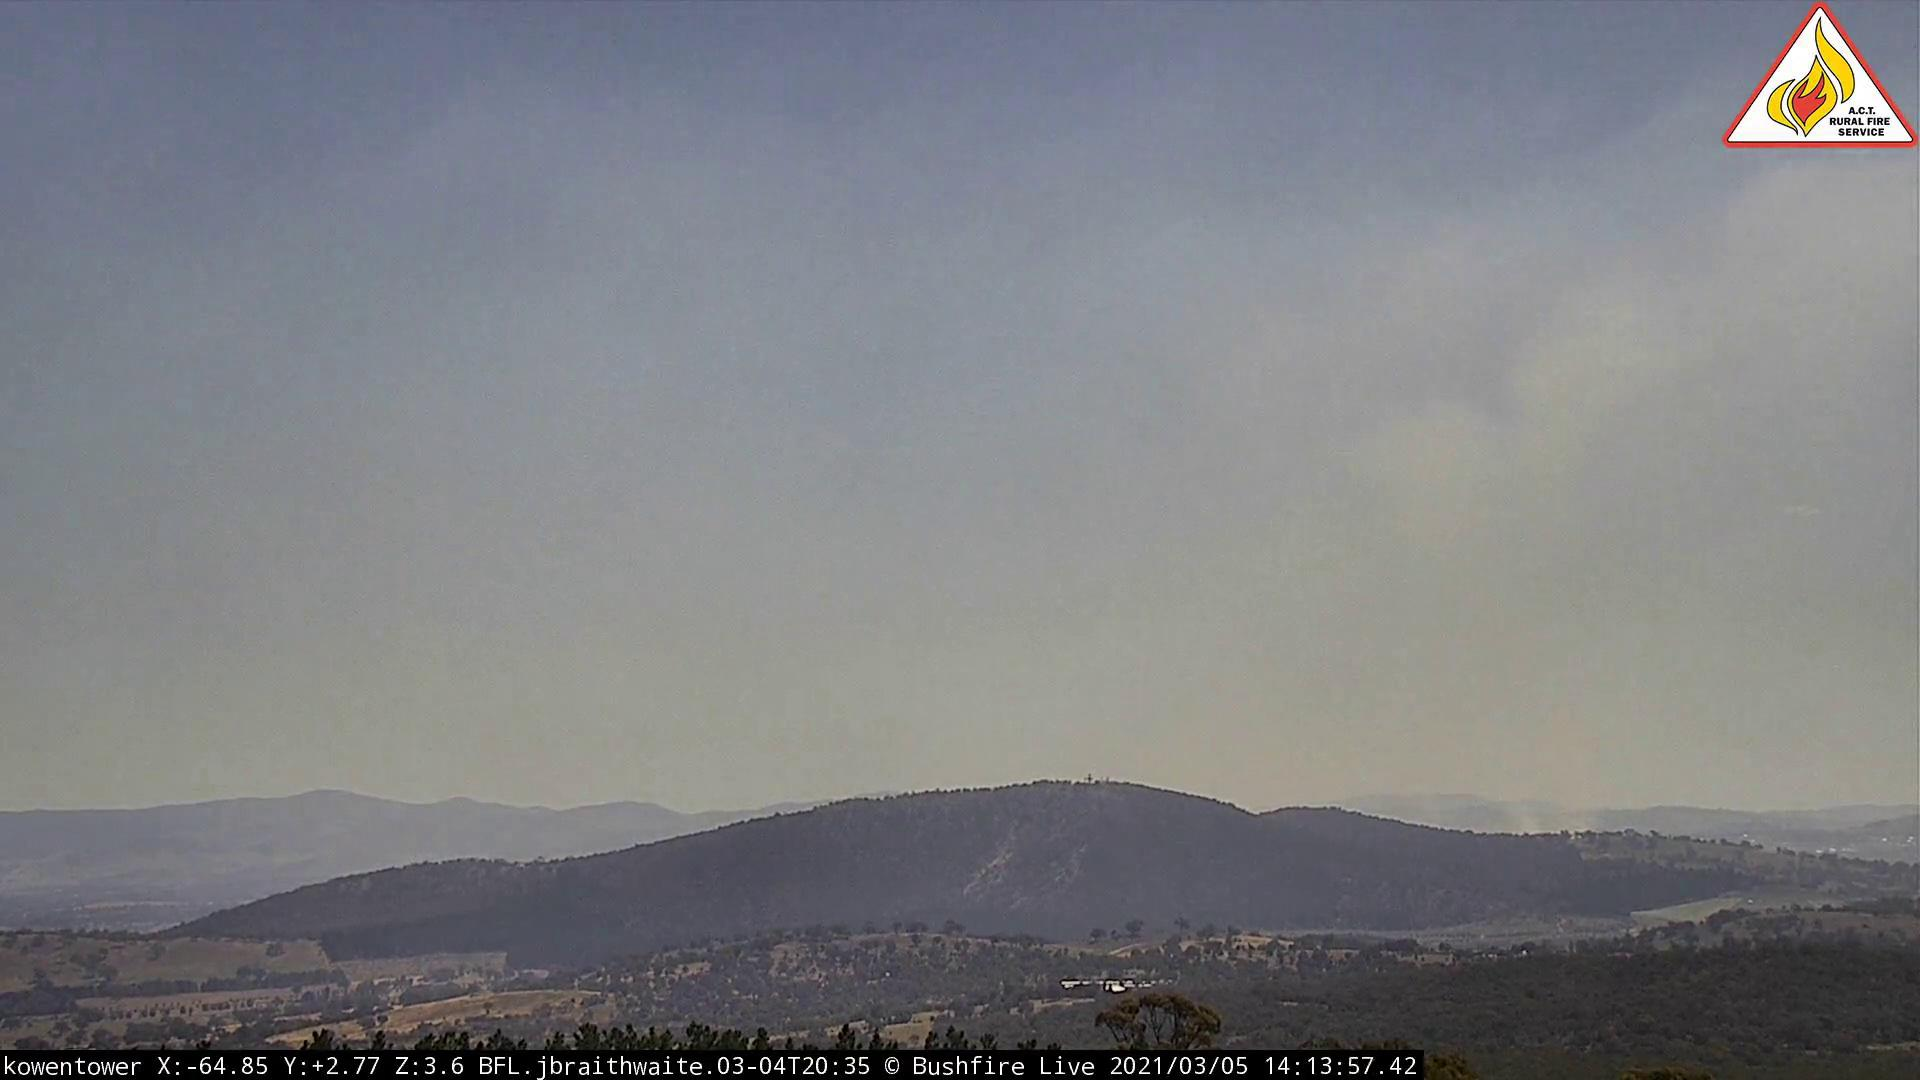Smoke: (1385, 265, 1826, 843)
